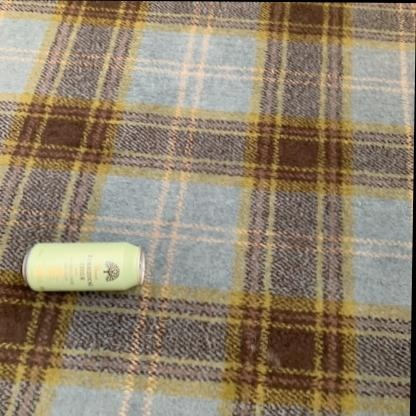trash: (22, 242, 144, 290)
